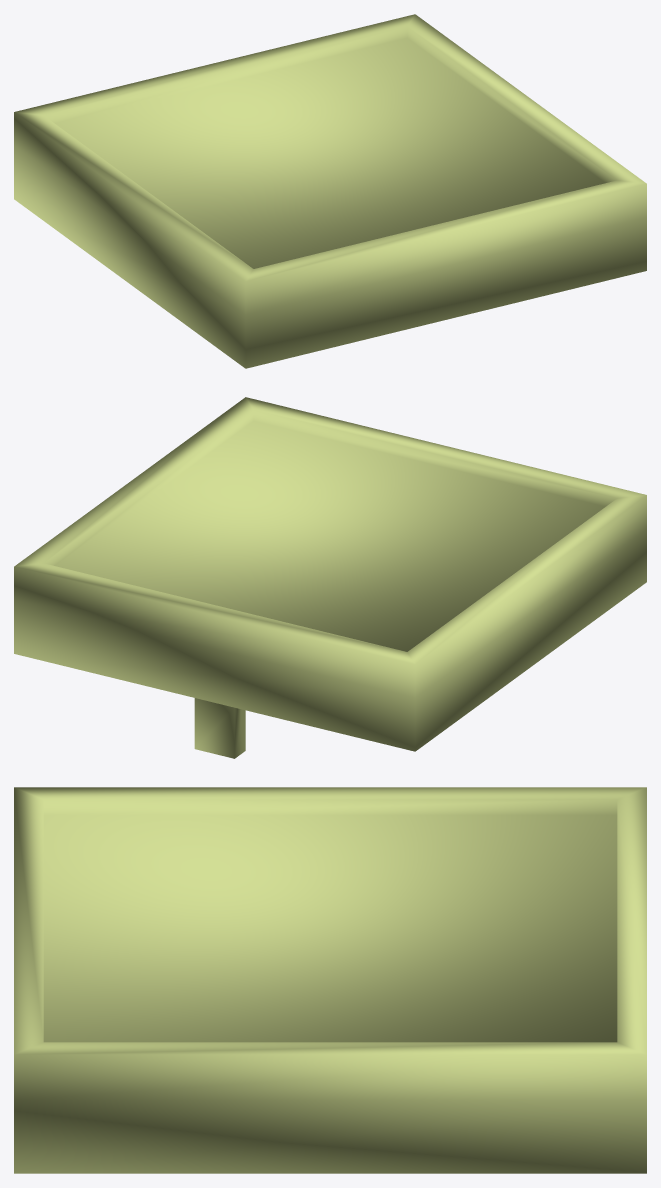
File: TangramBoxTop.fbx
3 renders of one model, top to bottom at view 1: azimuth 30°, elevation 25°; view 2: azimuth 150°, elevation 25°; view 3: azimuth 270°, elevation 25°, orthographic. The views are drawn at different scales.
Visible parts, largest first — view 1: TangramBoxTop:Box002; view 2: TangramBoxTop:Box002; view 3: TangramBoxTop:Box002.
Boxes of the visible parts, bbox=[...] form: TangramBoxTop:Box002: bbox=[14, 14, 646, 368]; TangramBoxTop:Box002: bbox=[14, 397, 646, 758]; TangramBoxTop:Box002: bbox=[14, 787, 646, 1173].
Bounding box in the file's own units: 78.74 × 25.94 × 78.74.
